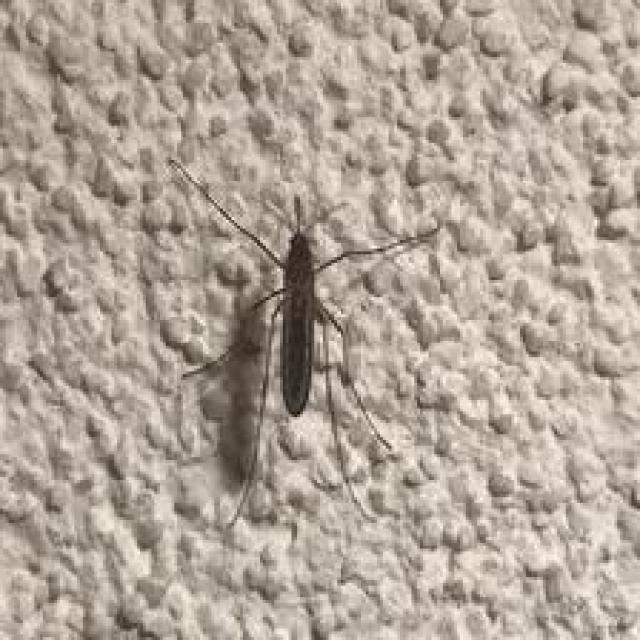Culex: (165, 154, 442, 532)
